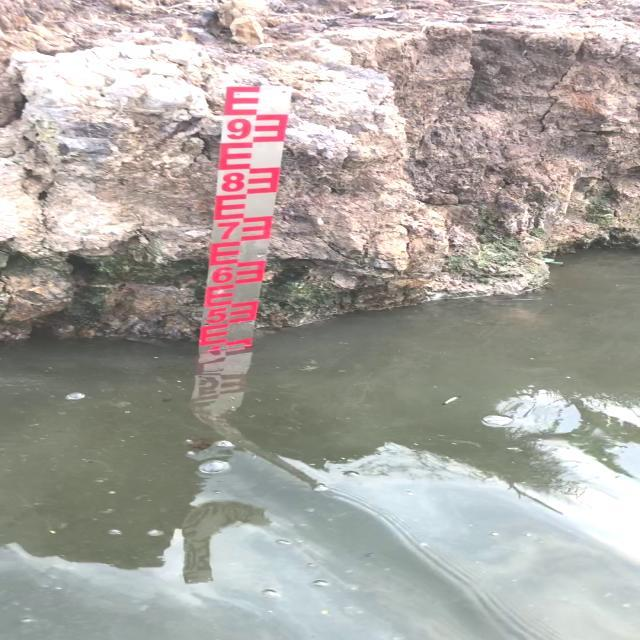ruler: (189, 69, 315, 355)
value: (221, 115, 257, 147), (215, 167, 248, 196), (211, 219, 242, 245), (206, 263, 237, 287), (203, 304, 231, 328)
